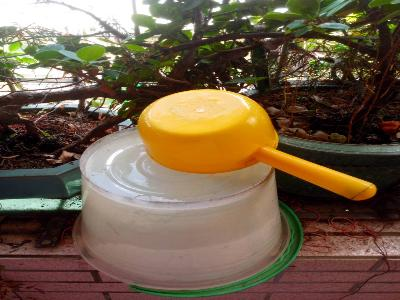bowl: (136, 86, 279, 175)
bucket: (78, 124, 294, 292)
